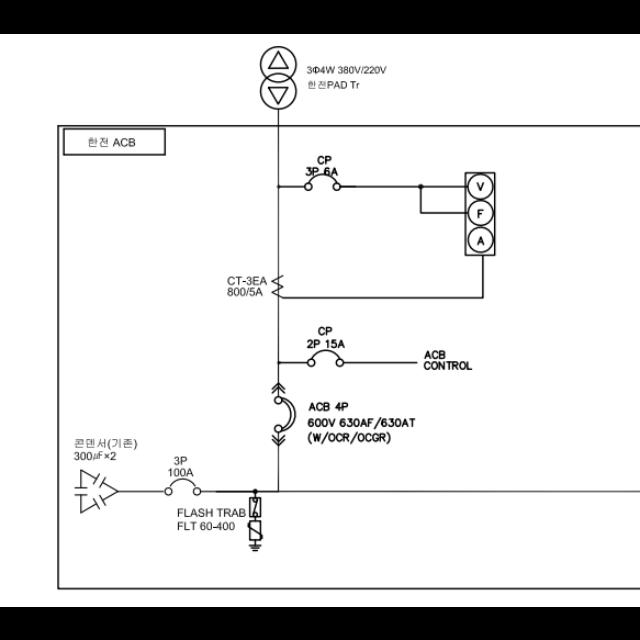A: (468, 225, 492, 251)
ACB: (274, 396, 296, 430)
CT: (271, 274, 285, 298)
GND: (248, 543, 262, 551)
MCCB: (306, 348, 344, 366), (165, 477, 201, 495), (304, 173, 342, 190)
SC: (74, 468, 118, 514)
V: (467, 172, 493, 198)
